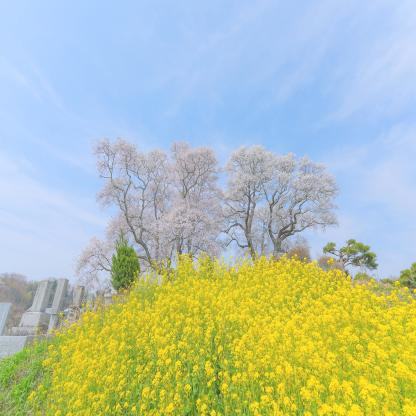EdohiganSakura: (69, 136, 222, 284), (219, 144, 341, 260)
